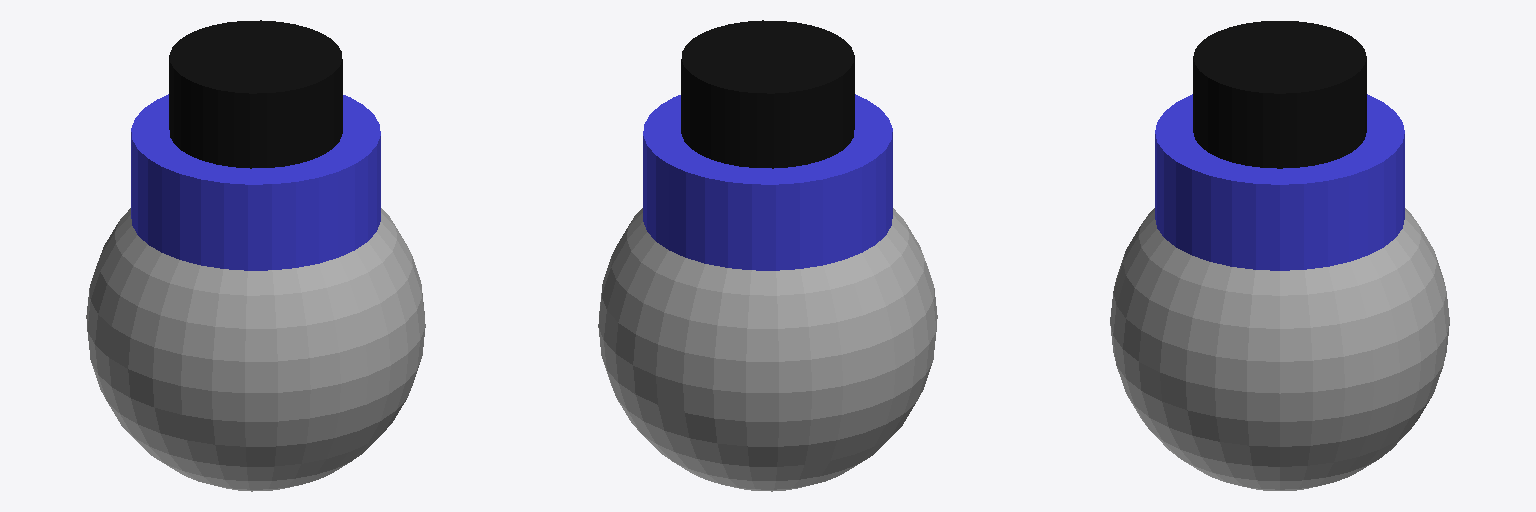
The robot description file, URDF, robot "evolved_robot":
<?xml version="1.0"?>
<robot name="evolved_robot">
  <material name="metal">
    <color rgba="0.7 0.7 0.7 1.0"/>
  </material>
  <material name="plastic">
    <color rgba="0.3 0.3 0.9 1.0"/>
  </material>
  <material name="rubber">
    <color rgba="0.1 0.1 0.1 1.0"/>
  </material>
  <material name="red">
    <color rgba="1.0 0.0 0.0 1.0"/>
  </material>
  <material name="wheel_material">
    <color rgba="0.2 0.2 0.2 1.0"/>
  </material>
  <link name="base_link">
    <visual>
      <geometry><sphere radius="0.1467470542980414"/></geometry>
      <material name="metal"/>
    </visual>
    <collision>
      <geometry><sphere radius="0.1467470542980414"/></geometry>
    </collision>
    <inertial>
      <mass value="5.0"/>
      <inertia ixx="0.08613879178060926" ixy="0" ixz="0" 
               iyy="0.08613879178060926" iyz="0" 
               izz="0.08613879178060926"/>
    </inertial>
  </link>
  <link name="link1">
    <visual>
      <geometry>
        <cylinder radius="0.08629262459595793" length="0.02680240023670377"/>
      </geometry>
      <material name="wheel_material"/>
    </visual>
    <collision>
      <geometry>
        <cylinder radius="0.08629262459595793" length="0.02680240023670377"/>
      </geometry>
    </collision>
    <inertial>
      <mass value="1.0"/>
      <inertia ixx="0.001921468319785436" ixy="0" ixz="0" 
               iyy="0.001921468319785436" iyz="0" 
               izz="0.003723208529829462"/>
    </inertial>
  </link>
  <joint name="joint1" type="continuous">
    <parent link="base_link"/>
    <child link="link1"/>
    <origin xyz="0 0 0" rpy="1.5708 0 0"/>
    <axis xyz="0 1 0"/>
    <dynamics damping="0.18259211648692597" friction="0.1"/>
  </joint>
  <link name="link2">
    <visual>
      <geometry><sphere radius="0.048789495059219146"/></geometry>
      <material name="rubber"/>
    </visual>
    <collision>
      <geometry><sphere radius="0.048789495059219146"/></geometry>
    </collision>
    <inertial>
      <mass value="0.5"/>
      <inertia ixx="0.0009521659312534278" ixy="0" ixz="0" 
               iyy="0.0009521659312534278" iyz="0" 
               izz="0.0009521659312534278"/>
    </inertial>
  </link>
  <joint name="joint2" type="fixed">
    <parent link="base_link"/>
    <child link="link2"/>
    <origin xyz="0 0 0.06399612305471086" rpy="0 0 0"/>
    <axis xyz="0.47128102785005804 0.8138877591135617 0.33982482009661624"/>
    <dynamics damping="0.32217045040889225" friction="0.1"/>
  </joint>
  <link name="link3">
    <visual>
      <geometry><cylinder radius="0.10793031849035511" length="0.1332925256875949"/></geometry>
      <material name="plastic"/>
    </visual>
    <collision>
      <geometry><cylinder radius="0.10793031849035511" length="0.1332925256875949"/></geometry>
    </collision>
    <inertial>
      <mass value="0.5"/>
      <inertia ixx="0.0043928131960388845" ixy="0" ixz="0" 
               iyy="0.0043928131960388845" iyz="0" 
               izz="0.005824476824714746"/>
    </inertial>
  </link>
  <joint name="joint3" type="prismatic">
    <parent link="base_link"/>
    <child link="link3"/>
    <origin xyz="0 0 0.11399612305471087" rpy="0 0 0"/>
    <axis xyz="0.003837151265221669 0.7887307609806852 -0.6147268197768804"/>
    <dynamics damping="0.4117828208540274" friction="0.1"/>
    <limit lower="-0.878472402905531" upper="1.692826469859871" effort="100" velocity="100"/>
  </joint>
  <link name="link4">
    <visual>
      <geometry><cylinder radius="0.07480723836878213" length="0.17597830907344564"/></geometry>
      <material name="rubber"/>
    </visual>
    <collision>
      <geometry><cylinder radius="0.07480723836878213" length="0.17597830907344564"/></geometry>
    </collision>
    <inertial>
      <mass value="0.5"/>
      <inertia ixx="0.003979727833453377" ixy="0" ixz="0" 
               iyy="0.003979727833453377" iyz="0" 
               izz="0.0027980614561818945"/>
    </inertial>
  </link>
  <joint name="joint4" type="prismatic">
    <parent link="base_link"/>
    <child link="link4"/>
    <origin xyz="0 0 0.16399612305471087" rpy="0 0 0"/>
    <axis xyz="-0.5329255038384102 -0.13416692636762192 0.835457744728985"/>
    <dynamics damping="0.251378170789926" friction="0.1"/>
    <limit lower="-1.0897640198467196" upper="3.1176989047034307" effort="100" velocity="100"/>
  </joint>
</robot>

--- Render facts (derived) ---
Views: 3 orthographic renders of the robot side by side, from view 1: azimuth 30°, elevation 25°; view 2: azimuth 150°, elevation 25°; view 3: azimuth 270°, elevation 25°.
Model evolved_robot with 5 links and 4 joints (1 continuous, 2 prismatic, 1 fixed), rooted at base_link, posed all joints at 0.
Links seen in each view (by area): view 1: base_link, link3, link4; view 2: base_link, link3, link4; view 3: base_link, link3, link4.
Boxes of the visible links, x1,y1,x2,y2 form: base_link: [86, 208, 425, 491]; link3: [131, 94, 380, 270]; link4: [169, 20, 342, 168]; base_link: [598, 208, 937, 491]; link3: [643, 94, 892, 270]; link4: [681, 20, 854, 168]; base_link: [1110, 208, 1449, 490]; link3: [1155, 94, 1404, 270]; link4: [1193, 21, 1366, 168].
Size in the robot's own frame: 0.2935 by 0.2935 by 0.3987 metres.
Geometry: primitives only (box / cylinder / sphere), no mesh files.